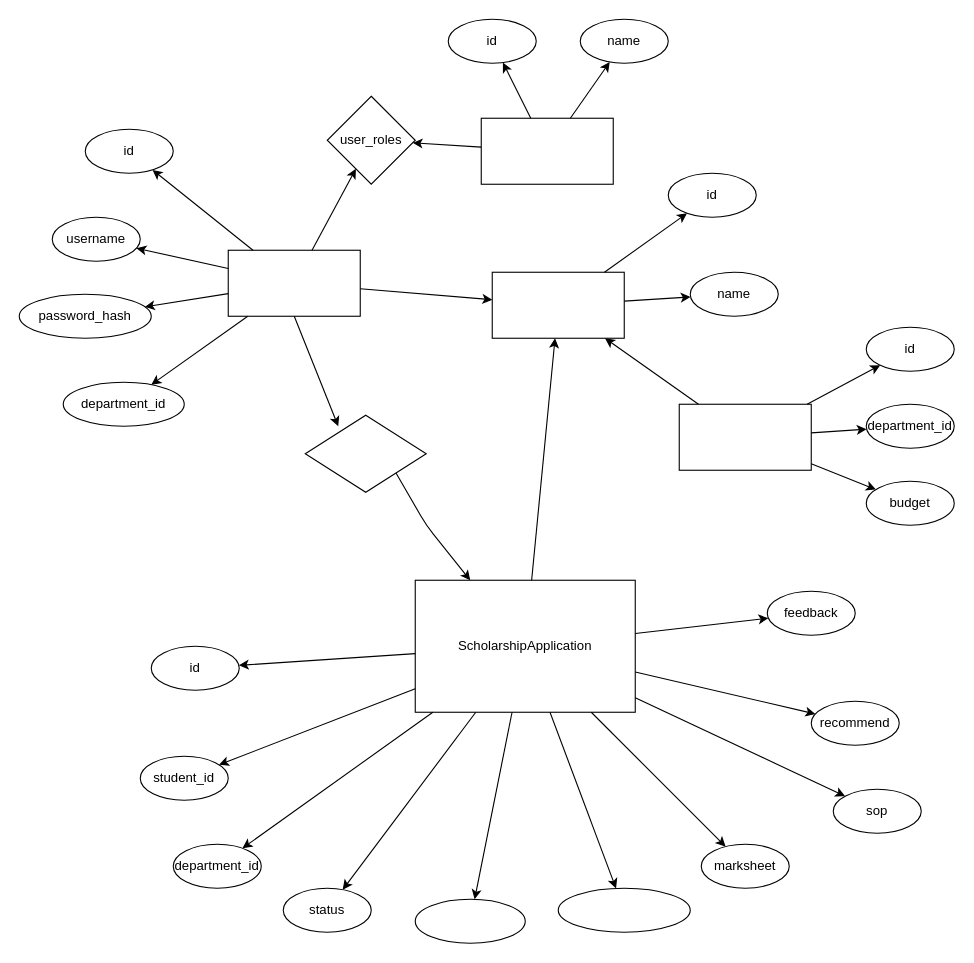
The diagram is 974 pixels wide and 963 high, and some of its shapes have lost their labels. The centre of each missing label's shape, as x and y in pixels:
application_date: the point at 469,920
apply: the point at 365,453
Department: the point at 557,304
Finance: the point at 744,436
income_certificate: the point at 623,909
Role: the point at 546,150
User: the point at 293,282
